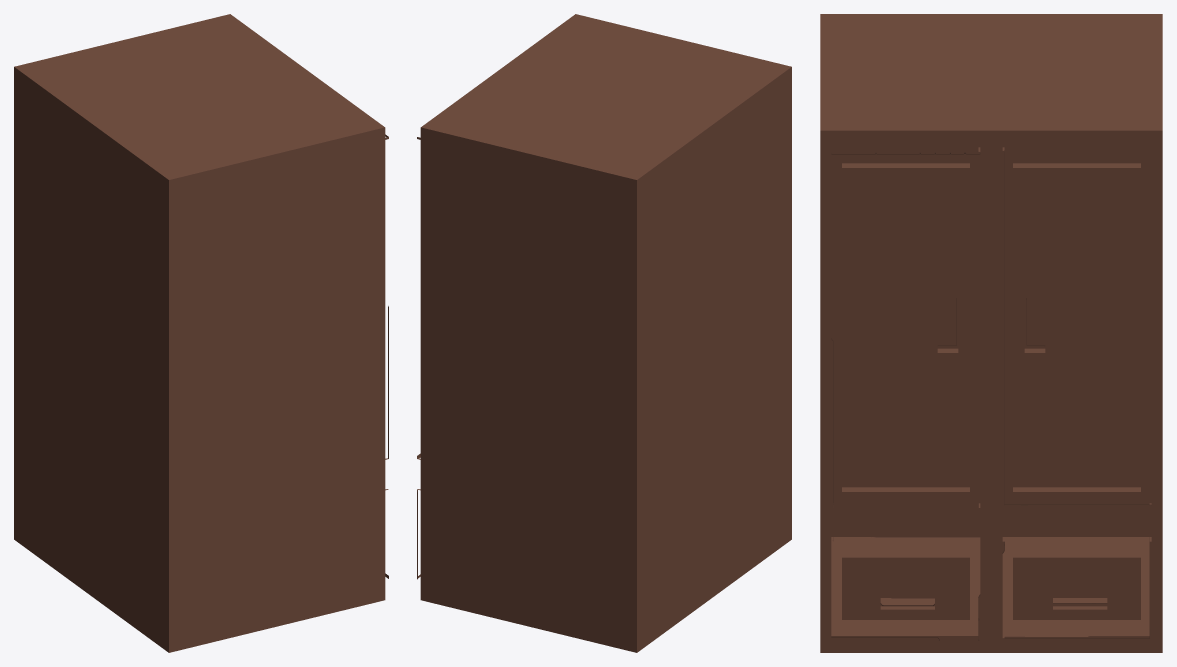
File: bookshelf.fbx
3 renders of one model, left to right at view 1: azimuth 30°, elevation 25°; view 2: azimuth 150°, elevation 25°; view 3: azimuth 270°, elevation 25°, orthographic. The views are drawn at different scales.
Parts seen in each view (by area): view 1: 櫃子; view 2: 櫃子; view 3: 櫃子.
Part boxes in pixels (<box>): 櫃子: <box>14,14,388,652</box>; 櫃子: <box>417,14,791,652</box>; 櫃子: <box>820,14,1162,652</box>.
Bounding box in the file's own units: 214 × 430 × 256.
